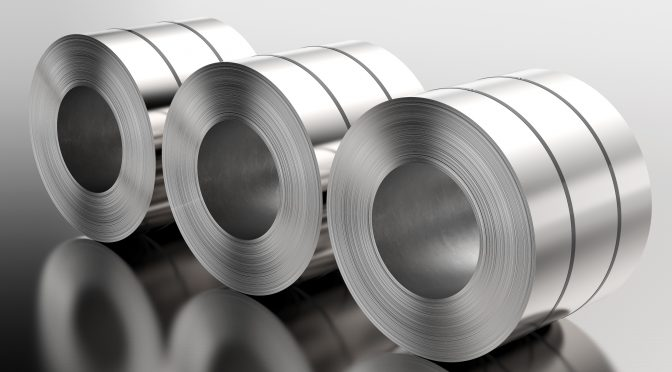steel-coil: (20, 19, 653, 308), (334, 54, 657, 310), (169, 46, 326, 297), (26, 31, 158, 245)
